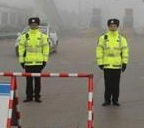person: (95, 17, 130, 108), (18, 17, 49, 104)
